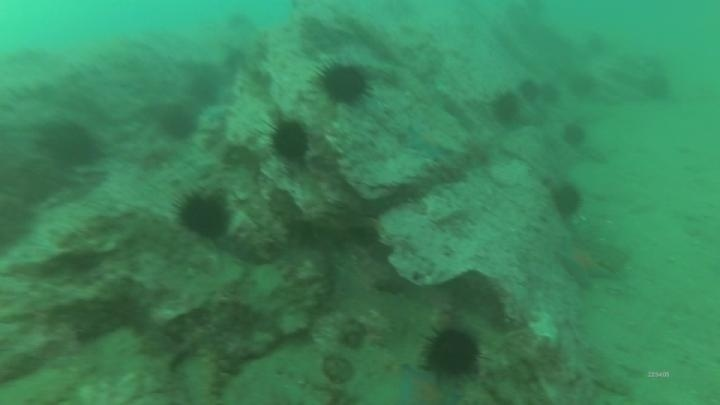echinus: (420, 324, 484, 381), (37, 119, 103, 171), (174, 189, 233, 243), (313, 59, 373, 108), (0, 194, 37, 256), (268, 117, 312, 164), (157, 106, 198, 143), (549, 181, 585, 220), (489, 89, 523, 127), (186, 73, 222, 108), (638, 71, 674, 104), (567, 71, 598, 101), (560, 121, 589, 149), (516, 77, 543, 105), (537, 80, 563, 107)
starfish: (370, 364, 463, 404), (555, 237, 613, 290), (403, 123, 456, 162)
